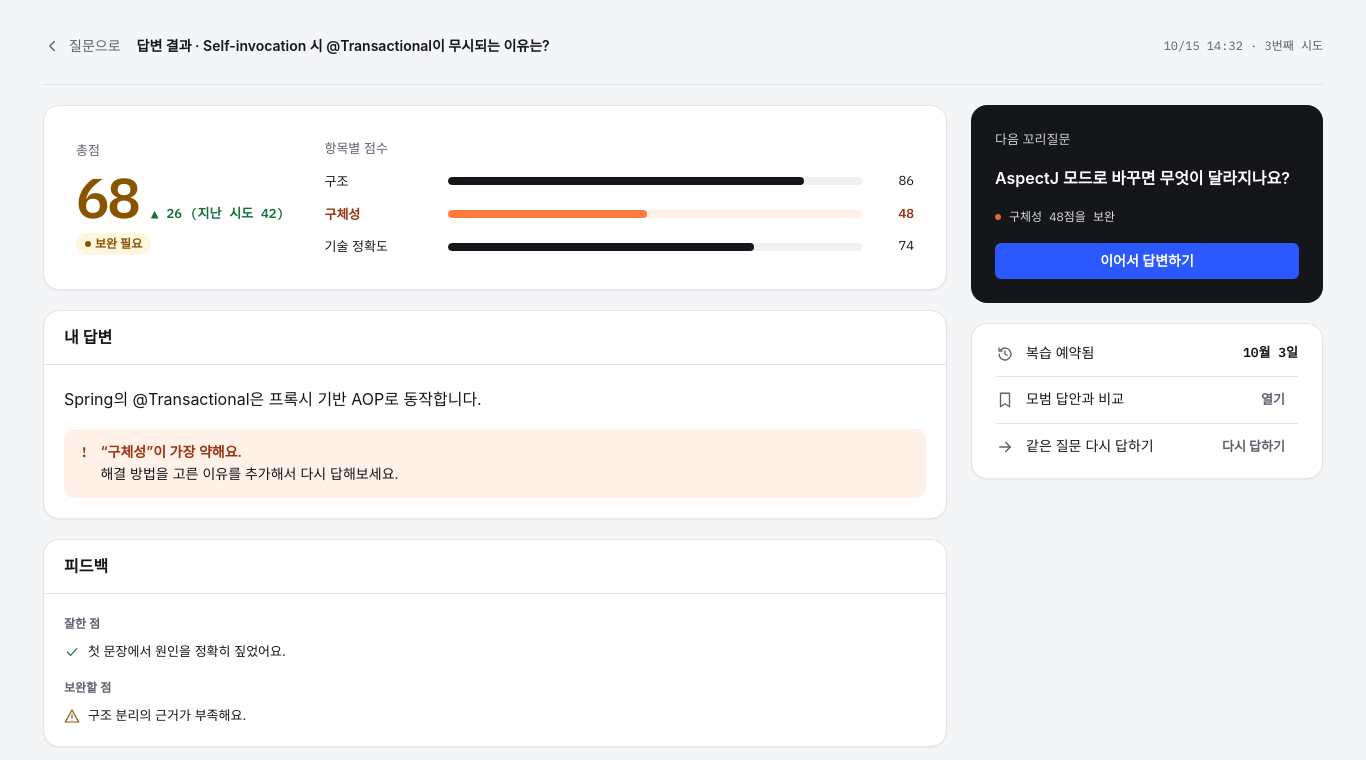
ResultAnalysisPage › shows the answer with the main improvement, worded feedback, and the model answer on request
Expected: the text "Spring의 @Transactional은 프록시 기반 AOP로 동작합니다." is shown, [64, 389, 482, 409]
Expected: the element showing "“구체성”이 가장 약해요." is shown, [100, 443, 242, 460]
Step 1. Click the button "열기" → [1273, 400], box [1248, 385, 1298, 415]
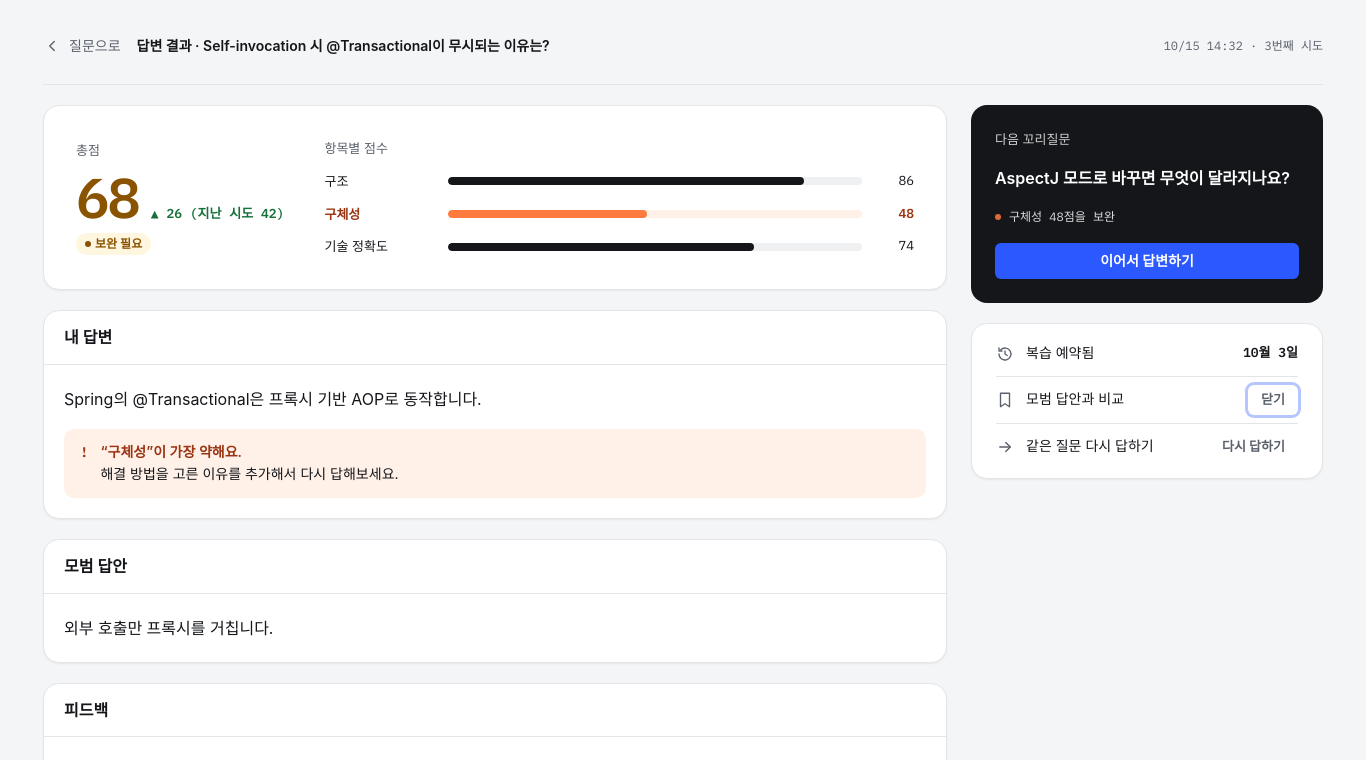
Now the element "모범 답안" shows "외부 호출만 프록시를 거칩니다.", box [64, 618, 274, 638]
Now the button "닫기" is expanded, box [1248, 385, 1298, 415]
